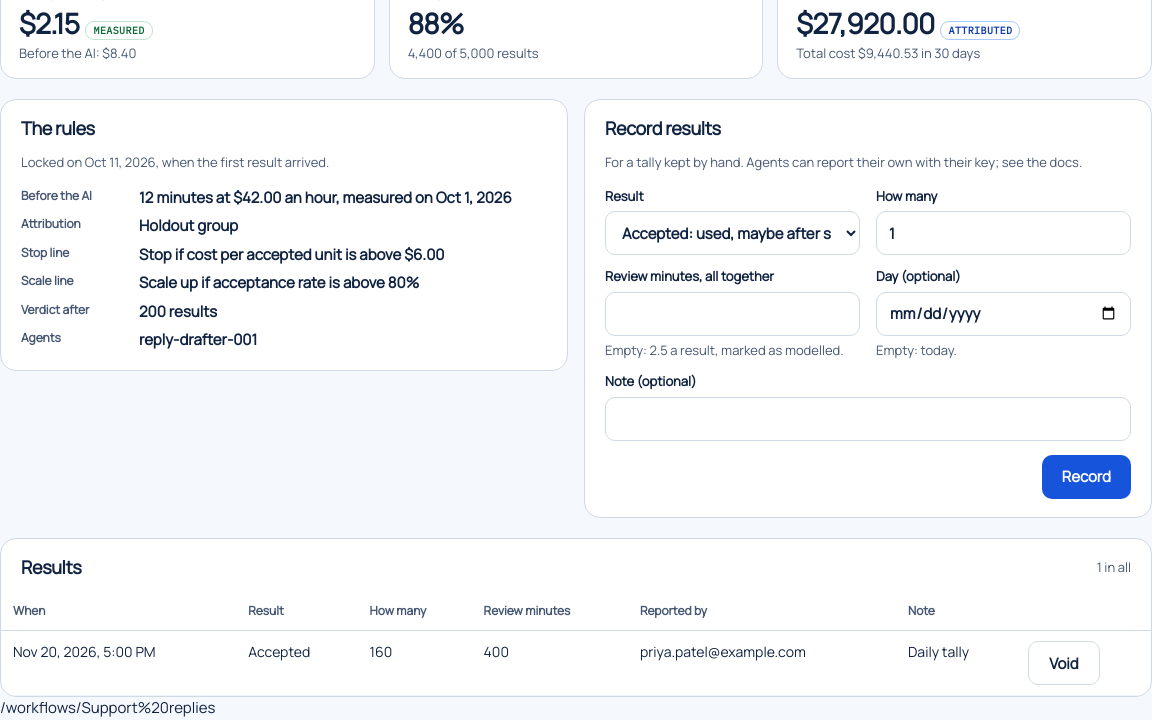
Test: WorkflowDetailPage › voids a result after asking
The image size is (1152, 720).
(page scrolled)
Step 1. Click the button with aria-label "Void 160 accepted" → {"x": 1064, "y": 663}, box top-left (1028, 641), bottom-right (1100, 685)
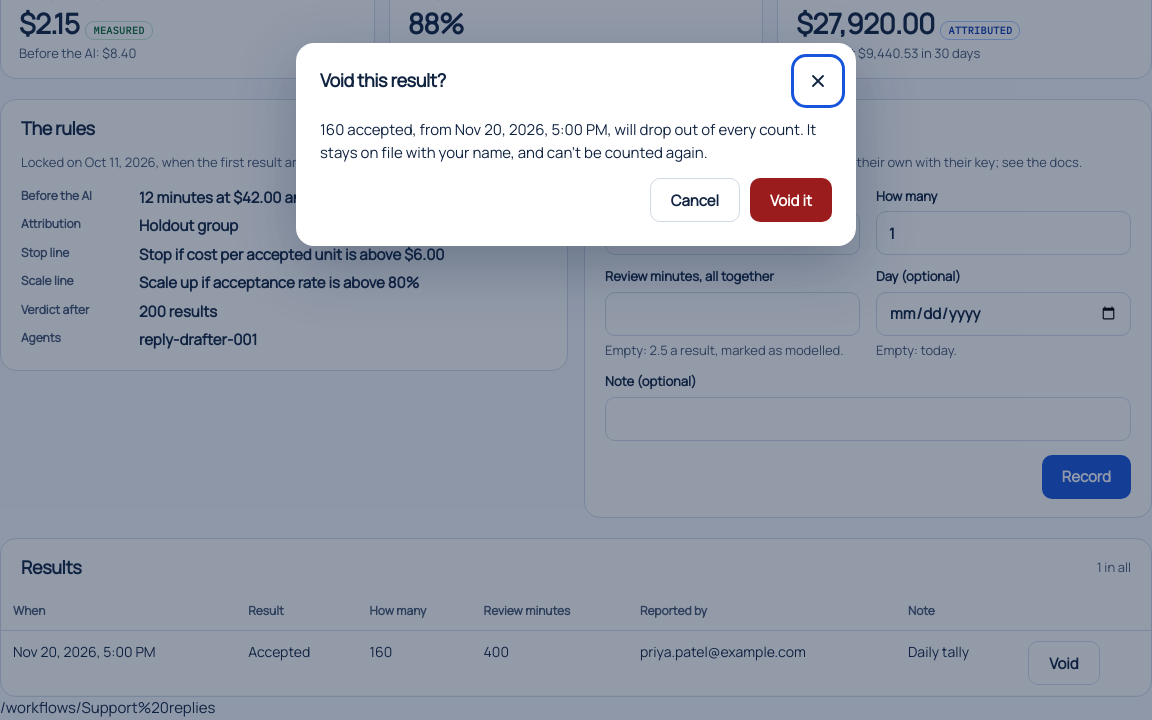
Step 2. Click the button "Cancel" → {"x": 695, "y": 200}, box top-left (650, 178), bottom-right (740, 222)
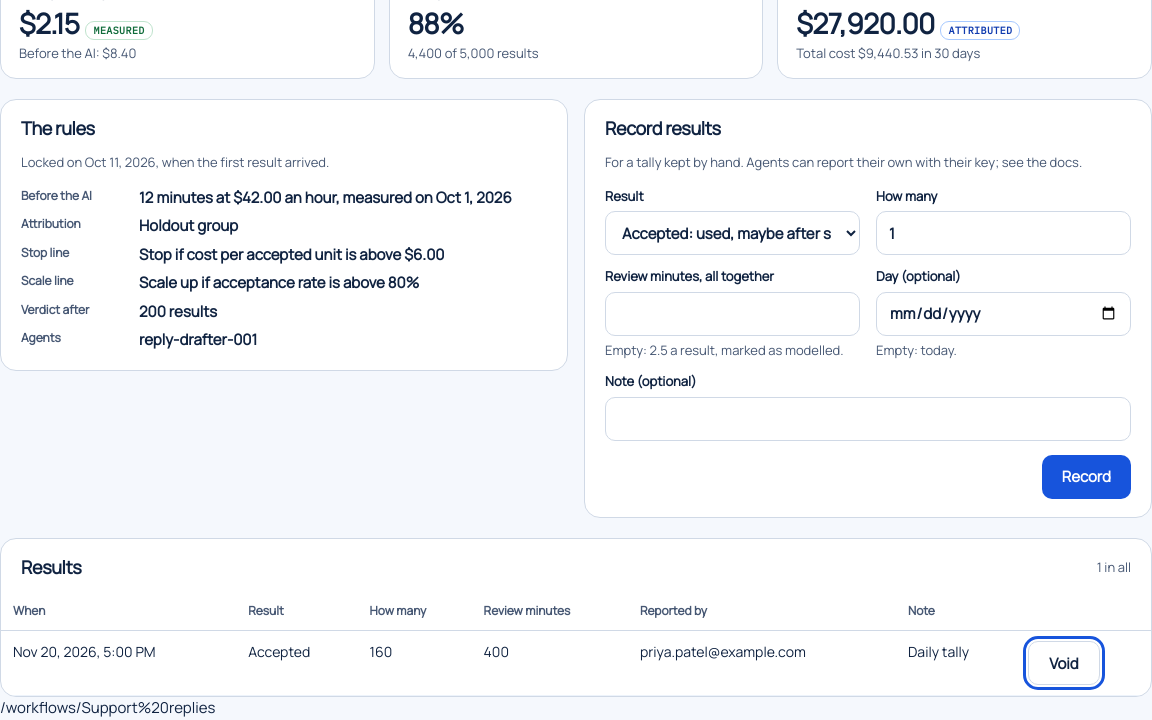
Step 3. Click the button with aria-label "Void 160 accepted" → {"x": 1064, "y": 663}, box top-left (1028, 641), bottom-right (1100, 685)
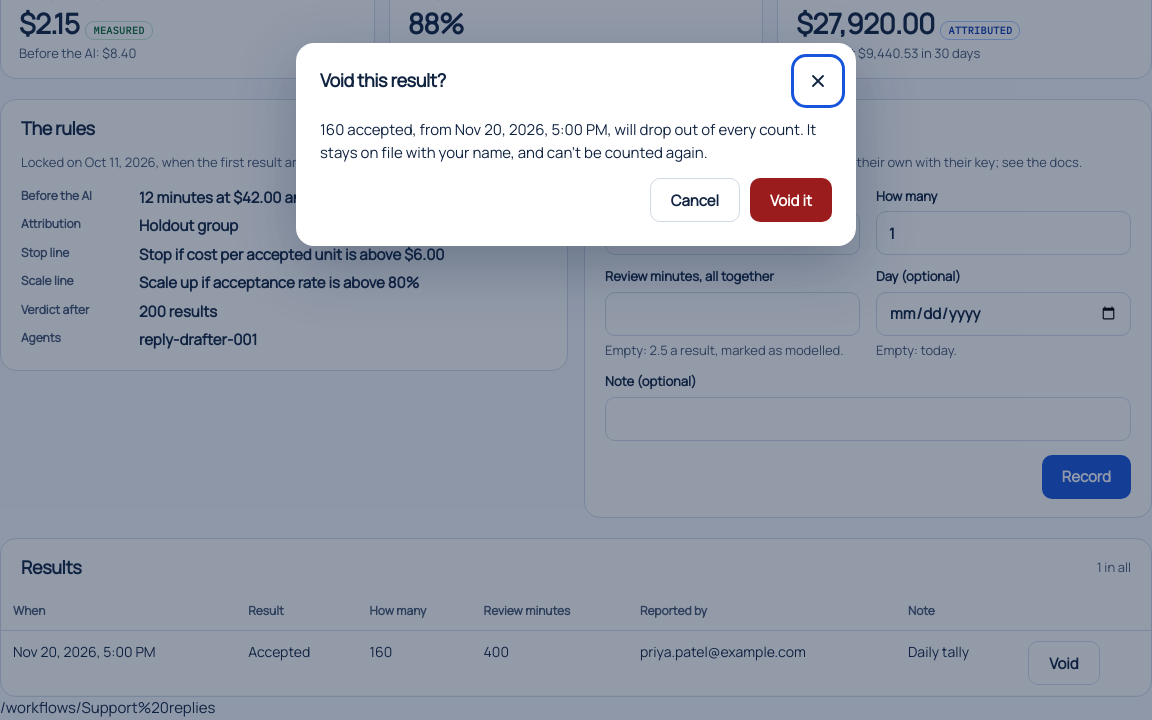
Step 4. Click the button "Void it" → {"x": 791, "y": 200}, box top-left (750, 178), bottom-right (832, 222)
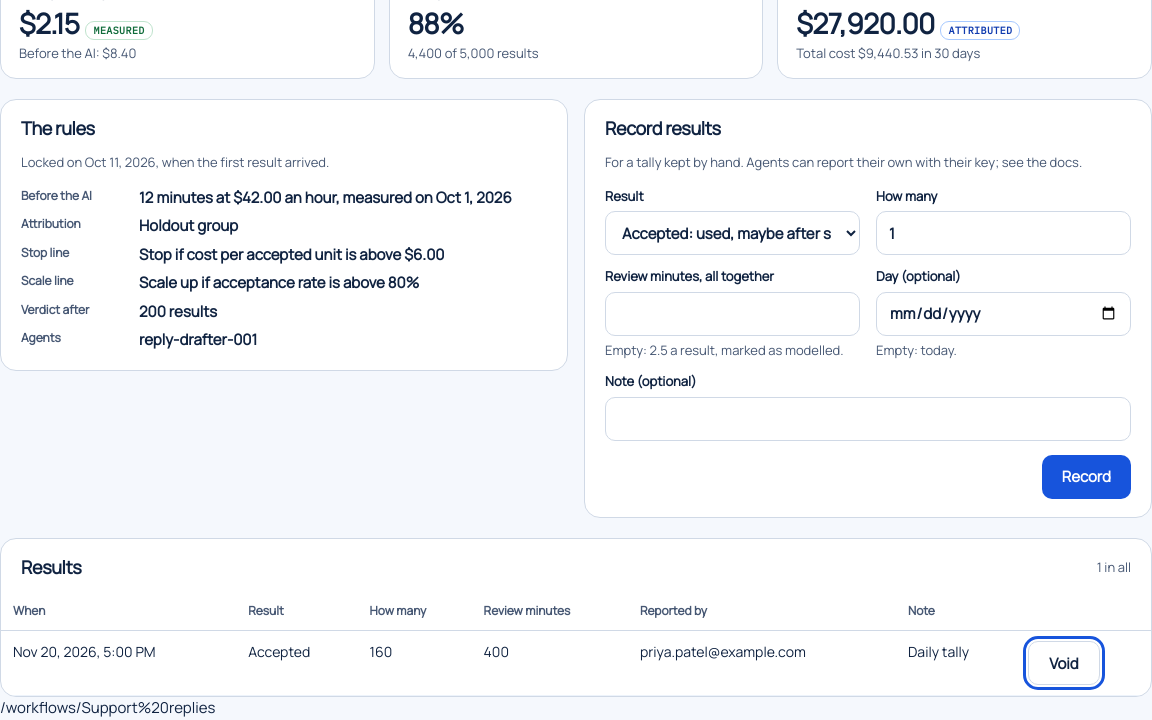
Now the dialog is gone
